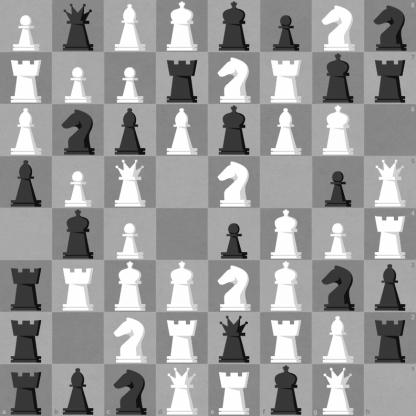B: (1, 105, 52, 156), (105, 1, 156, 52), (157, 105, 208, 156), (261, 105, 312, 156), (313, 313, 364, 364)
K: (105, 261, 156, 312), (157, 1, 208, 52), (157, 261, 208, 312), (261, 209, 312, 260), (261, 261, 312, 312), (313, 105, 364, 156)
N: (105, 313, 156, 364), (209, 53, 260, 104), (209, 157, 260, 208), (209, 261, 260, 312), (313, 1, 364, 52)
P: (1, 1, 52, 52), (53, 53, 104, 104), (53, 157, 104, 208), (105, 53, 156, 104), (105, 209, 156, 260), (313, 209, 364, 260)
Q: (156, 364, 209, 416), (364, 156, 416, 209), (312, 364, 364, 416), (105, 157, 156, 208)
R: (209, 364, 260, 416), (364, 209, 416, 260), (1, 53, 52, 104), (53, 261, 104, 312), (157, 313, 208, 364), (261, 53, 312, 104), (261, 313, 312, 364)
b: (52, 364, 104, 416), (364, 260, 416, 312), (1, 157, 52, 208), (105, 105, 156, 156)
board: (0, 0, 415, 415)
k: (260, 364, 312, 416), (53, 209, 104, 260), (209, 1, 260, 52), (209, 105, 260, 156), (313, 53, 364, 104)
n: (104, 364, 156, 416), (364, 0, 416, 52), (53, 105, 104, 156), (313, 261, 364, 312)
p: (209, 209, 260, 260), (261, 1, 312, 52), (313, 157, 364, 208)
q: (53, 1, 104, 52), (209, 313, 260, 364)
r: (0, 364, 52, 416), (364, 52, 416, 104), (364, 312, 416, 364), (1, 261, 52, 312), (1, 313, 52, 364), (157, 53, 208, 104)
